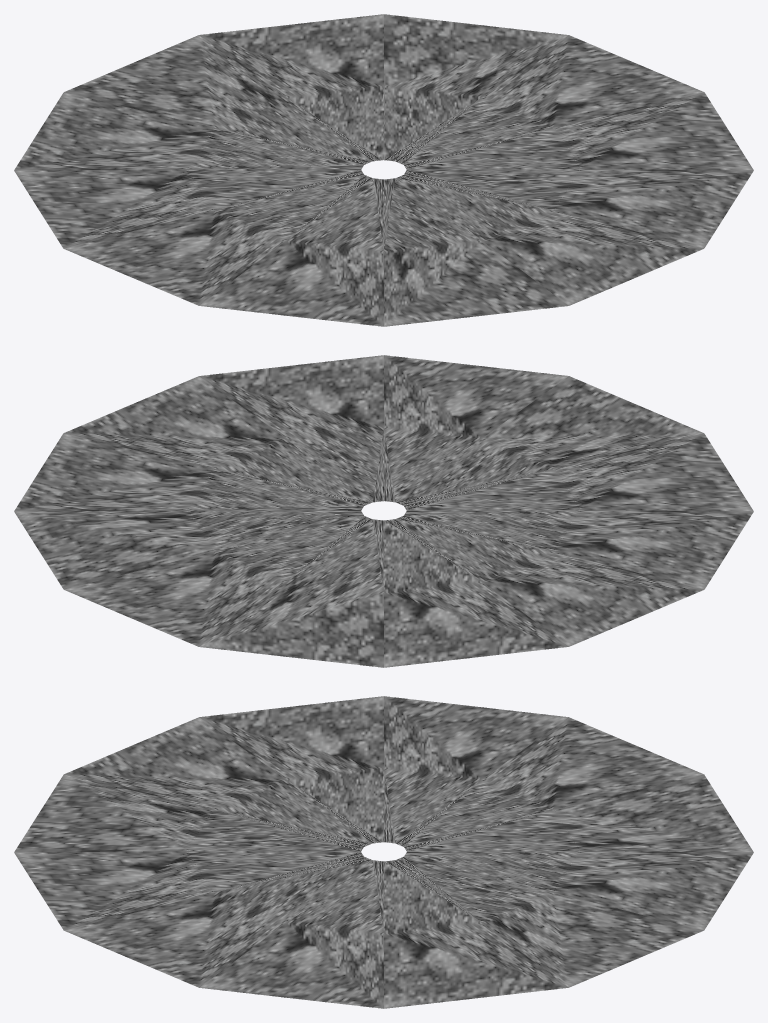
The picture shows the model from 3 angles, top to bottom: view 1: azimuth 30°, elevation 25°; view 2: azimuth 150°, elevation 25°; view 3: azimuth 270°, elevation 25°; orthographic projection.
Parts seen in each view (by area): view 1: mesh00; view 2: mesh00; view 3: mesh00.
Part boxes in pixels (x1=…): mesh00: x1=14, y1=14, x2=753, y2=326; mesh00: x1=14, y1=355, x2=753, y2=667; mesh00: x1=14, y1=696, x2=753, y2=1008.
Bounding box in the file's own units: 980 × 1.97 × 980.
